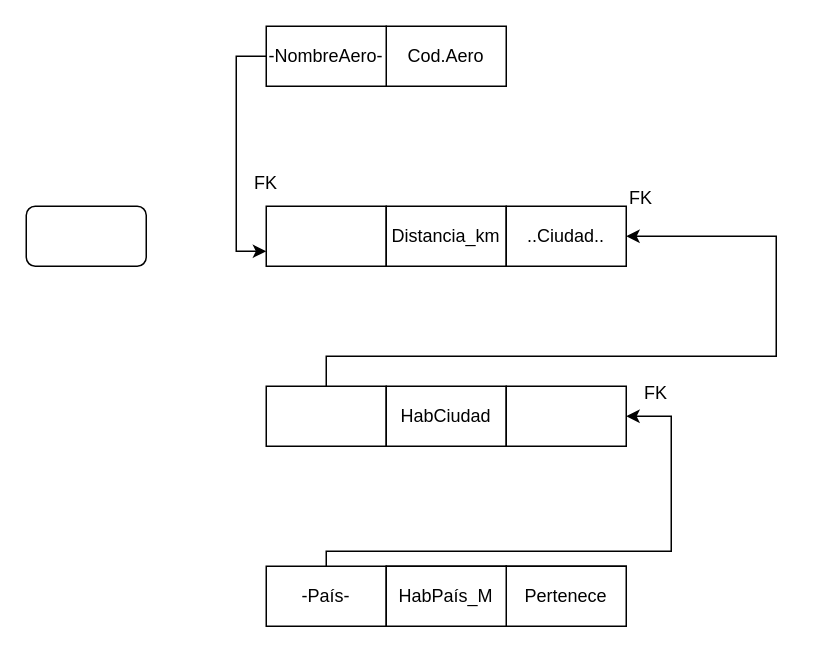
Some shapes in this 815 by 653 pixel diagram are drawn without their labels. Each missing label, with the centre of its shape:
-Ciudad-: the point at 325,415
..NombreAero..: the point at 325,235
..País..: the point at 565,415
